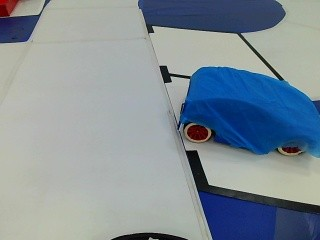car: (177, 60, 318, 155)
